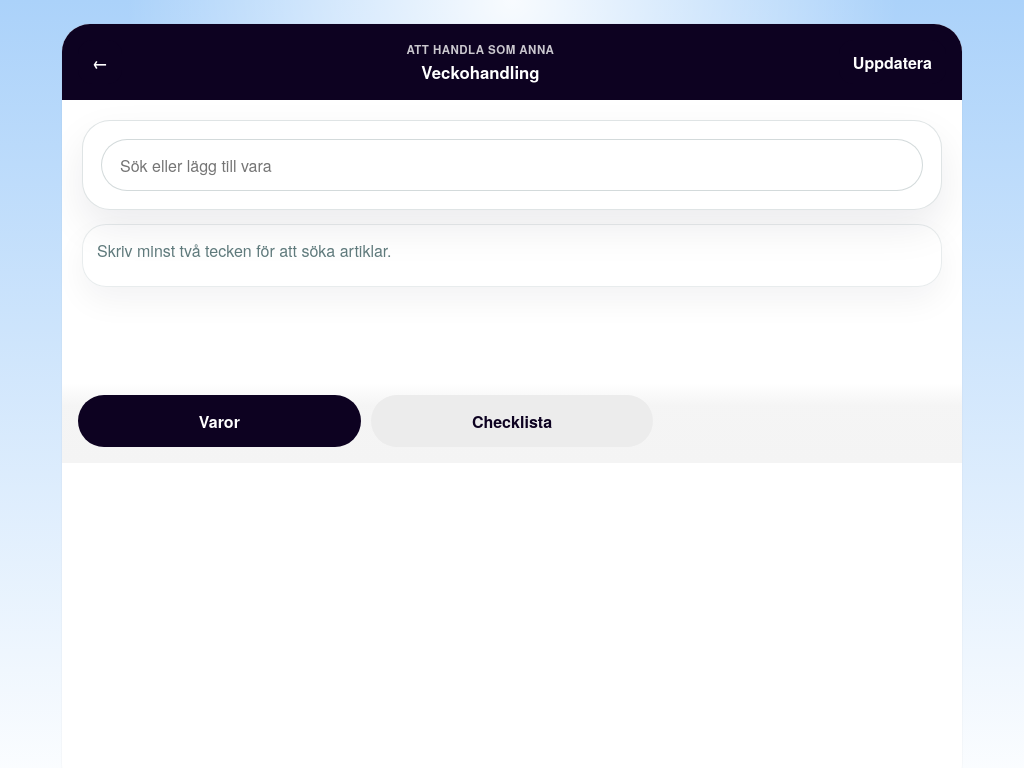
ShoppingListDetailPage › clears the search input from the clear button
Type "kaffe" into the field named "Sök artikel" at coordinates (512, 165), box [101, 139, 923, 191]
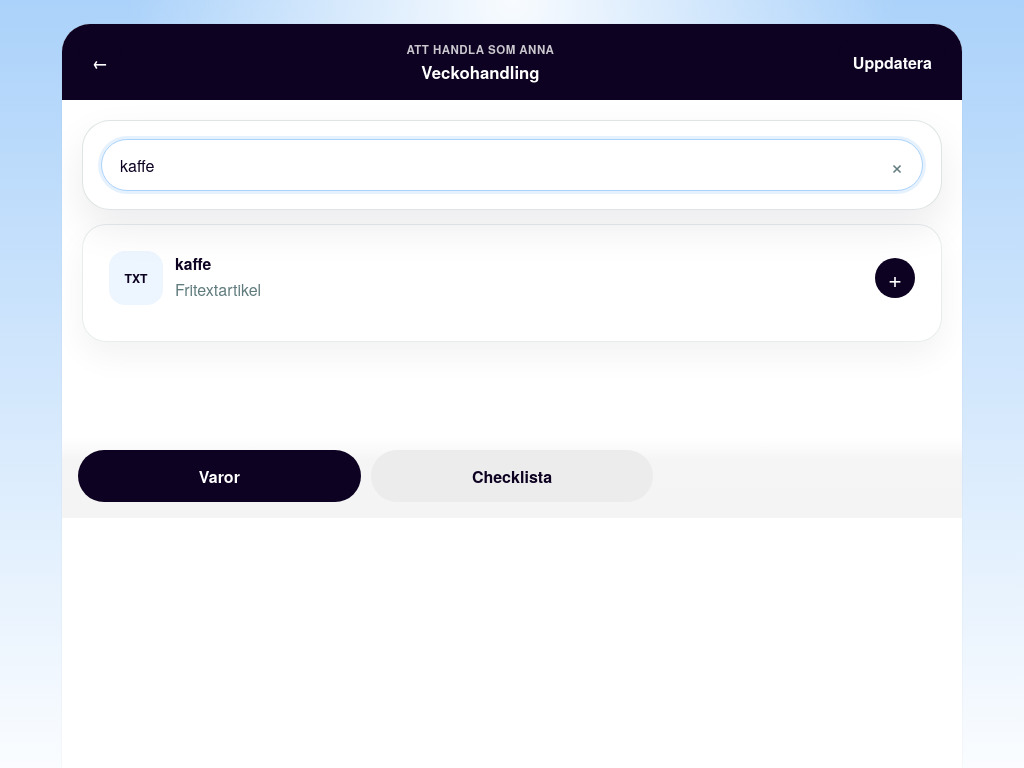
Click the button named "Rensa sökning" at coordinates (897, 165), box [881, 149, 913, 181]
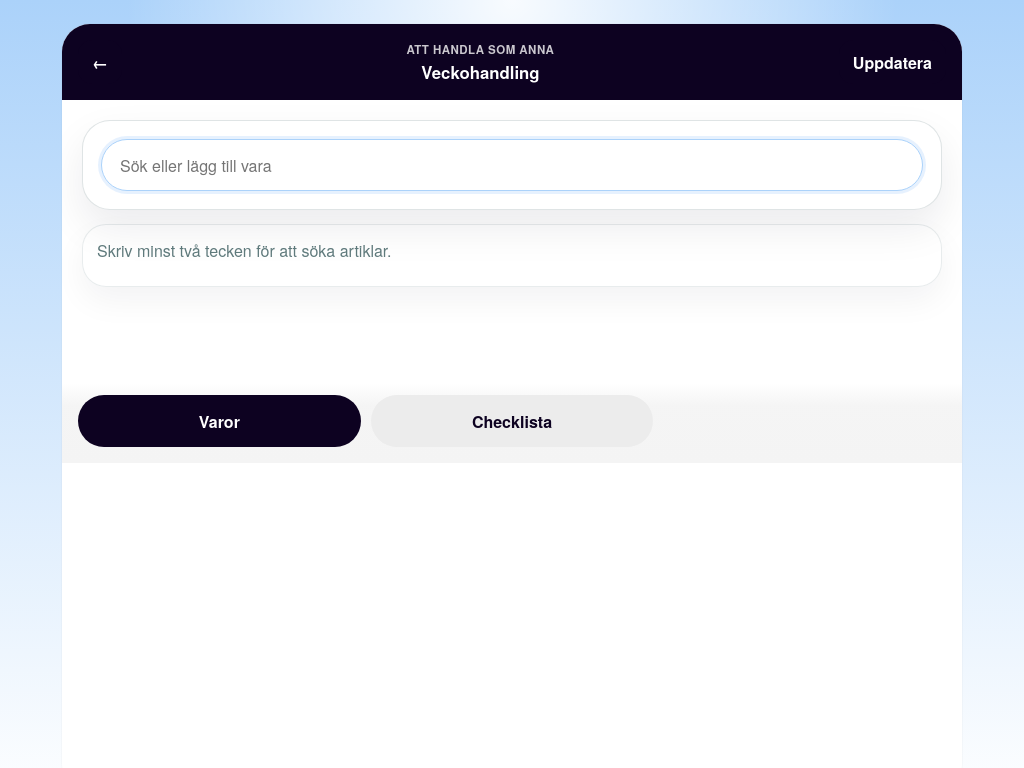
Result: the field named "Sök artikel" is empty at [101, 139, 923, 191]
